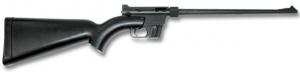rifle: (2, 0, 300, 72)
